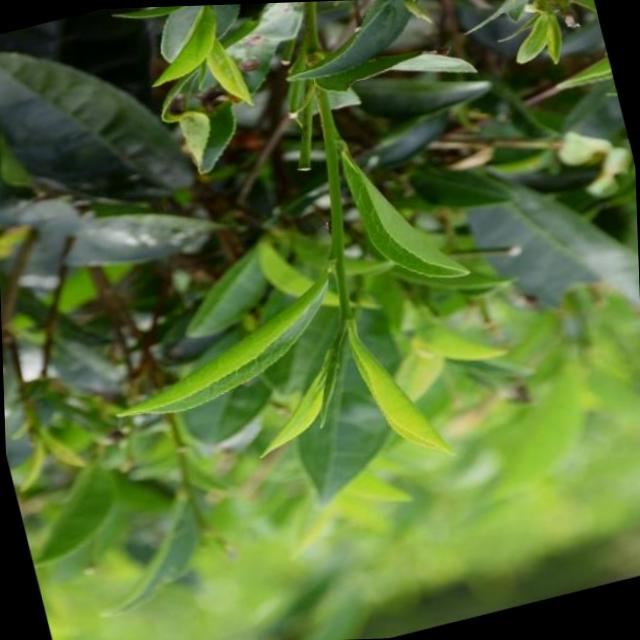Stem: (341, 306, 350, 320)
